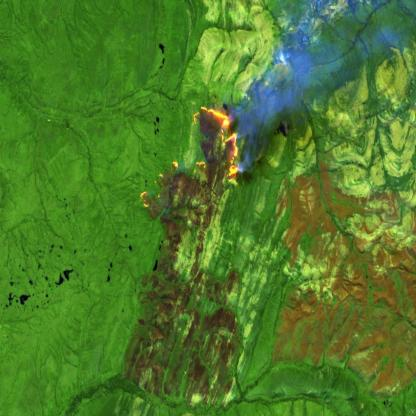fire: (137, 101, 243, 211)
